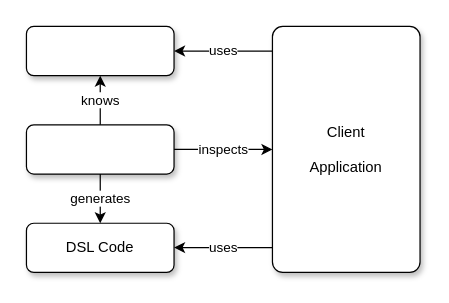
Some shapes in this 449 by 303 pixel diagram are drawn without their labels. The shapes that lost their labels are listed below. From the top down, each one's centre as x and y in pixels, then its label:
(100,52): Annotations
(100,151): Processor
